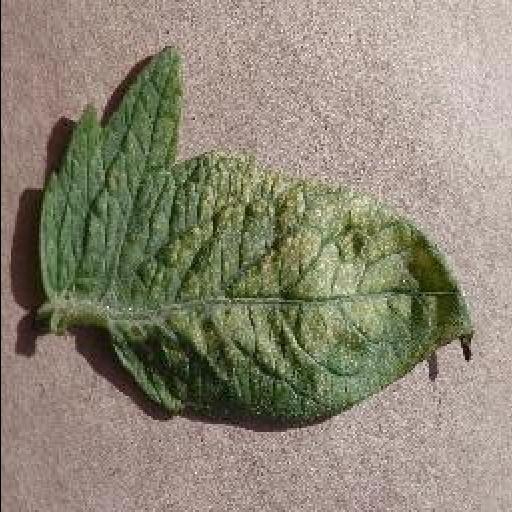disease_tomato: (41, 46, 471, 426)
